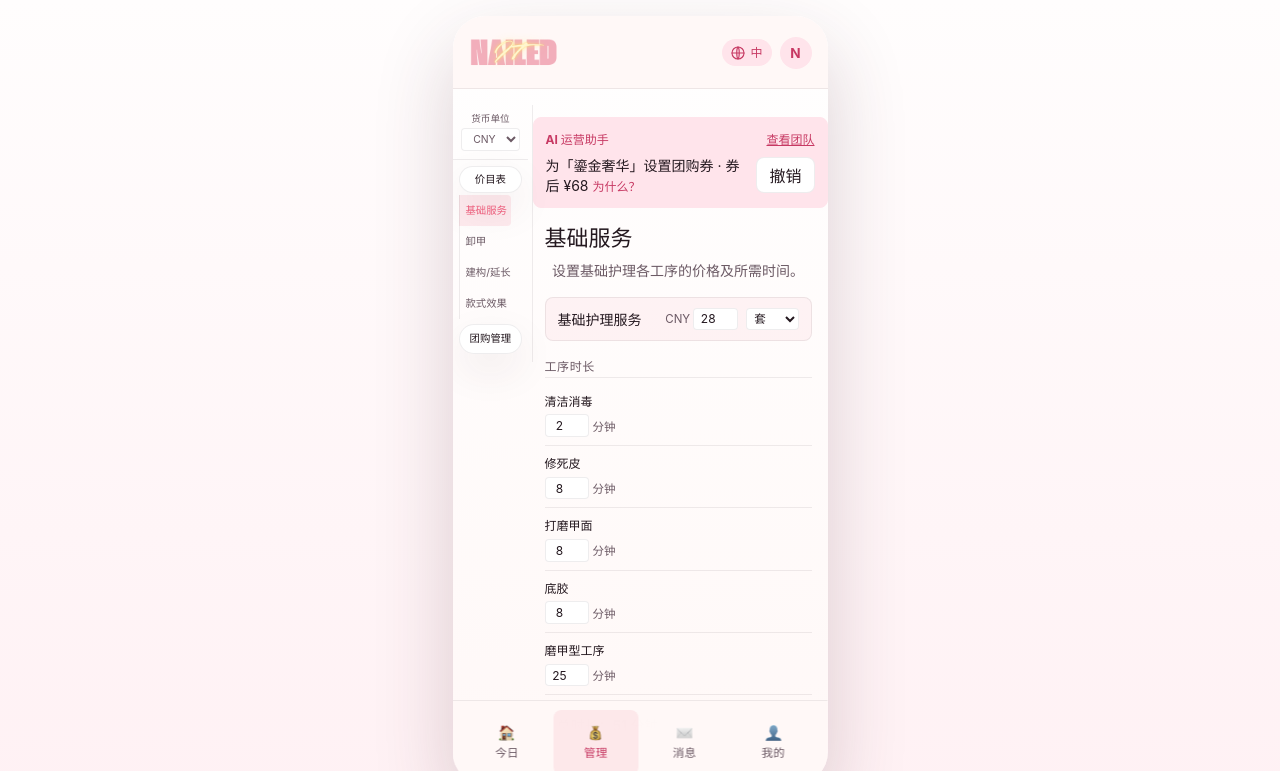
Test: MerchantManagePage › unlists a deal and shows 已下架 in the list
This screenshot has width=1280, height=771.
Expected: the number field named "基础护理服务 单价" is shown, left=693, top=308, right=738, bottom=330
Click the button "团购管理" at (490, 339), box left=459, top=324, right=522, bottom=354
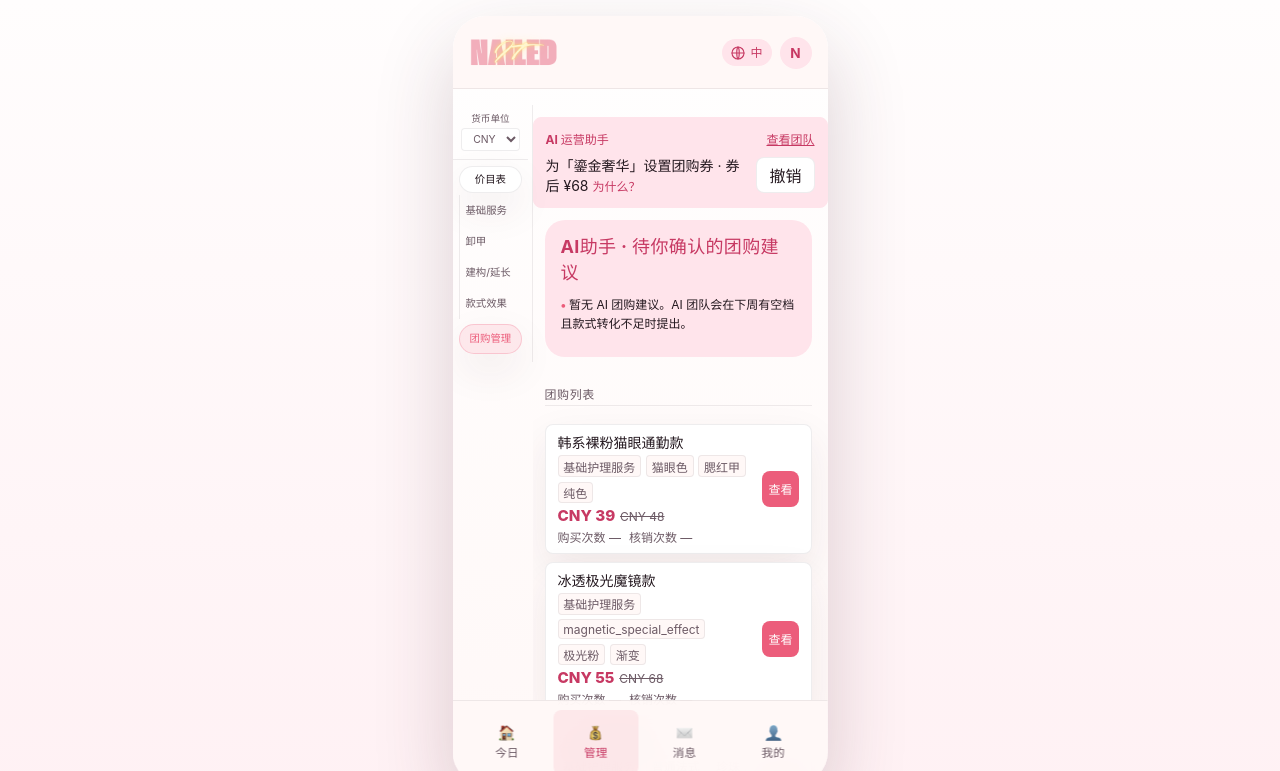
Click the button "查看" next to "腮红甲" at (780, 489), box left=762, top=471, right=798, bottom=507
(page scrolled)
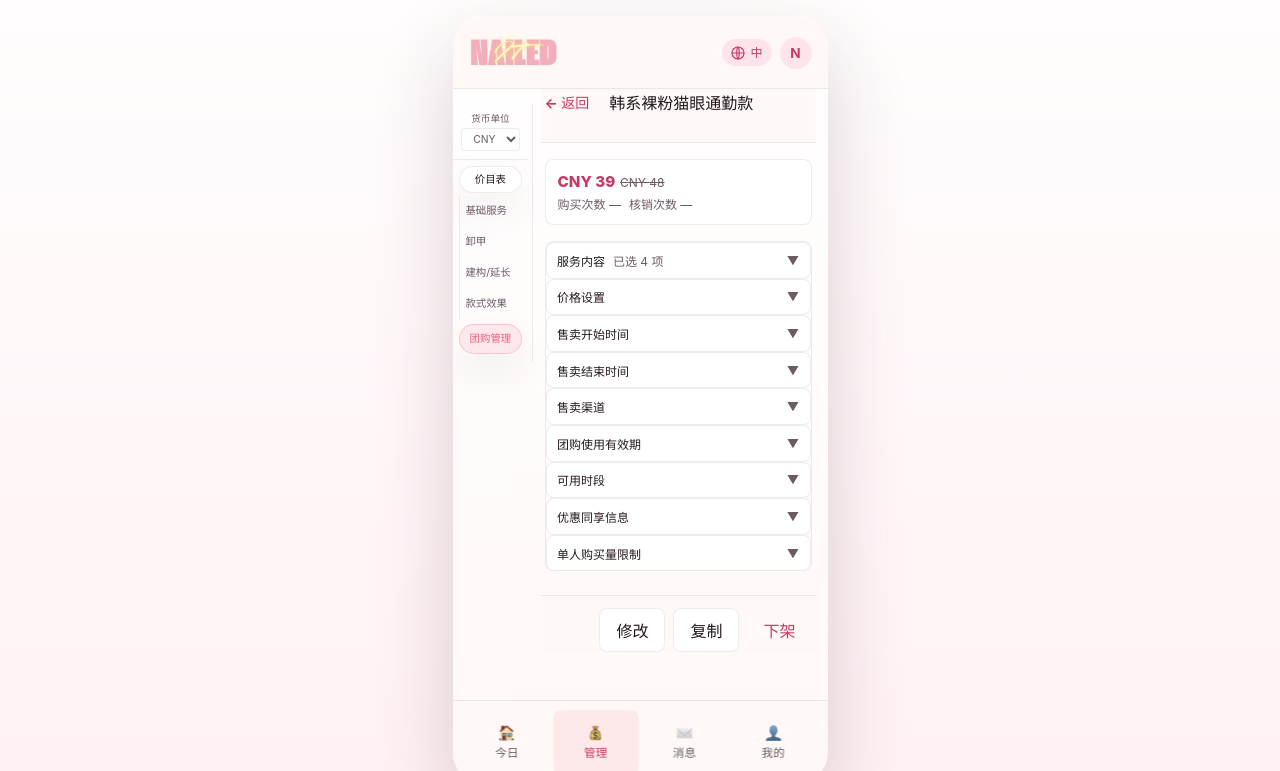
Click the button "下架" at (780, 630), box left=748, top=608, right=812, bottom=652
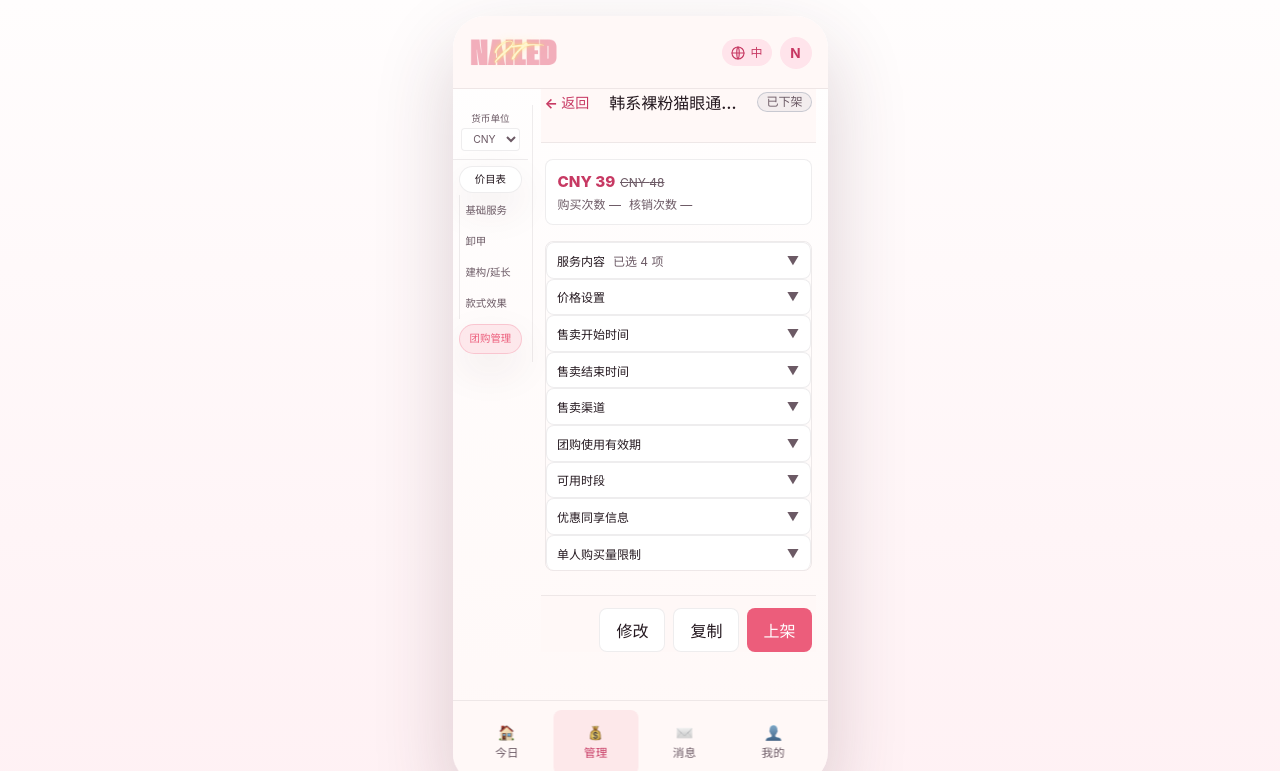
Result: the button "上架" is shown at left=748, top=608, right=812, bottom=652
